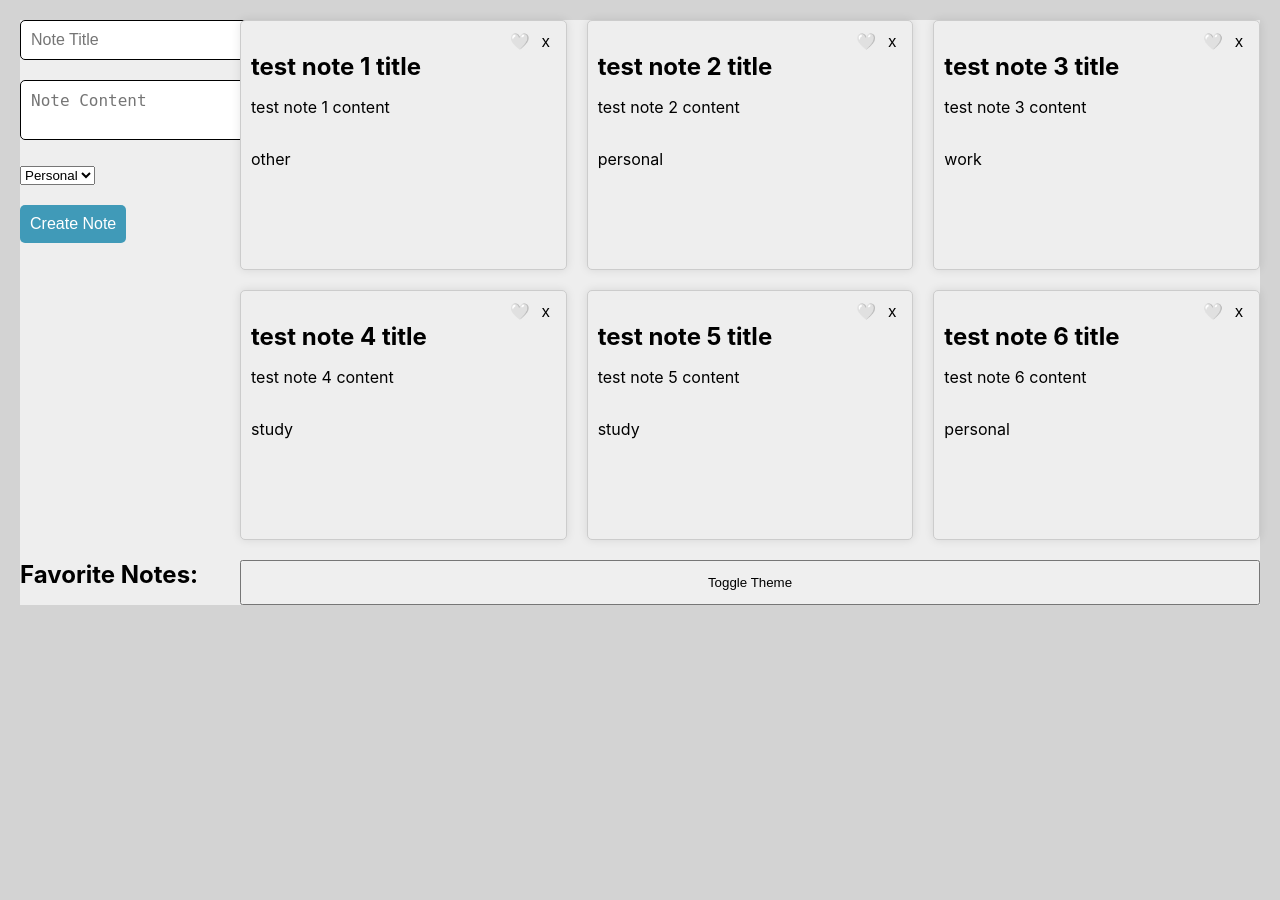
Scenario: displays all created notes
Type "Note 1" into the field with placeholder "Note Title" at (134, 40), box x1=20 y1=20 x2=249 y2=60
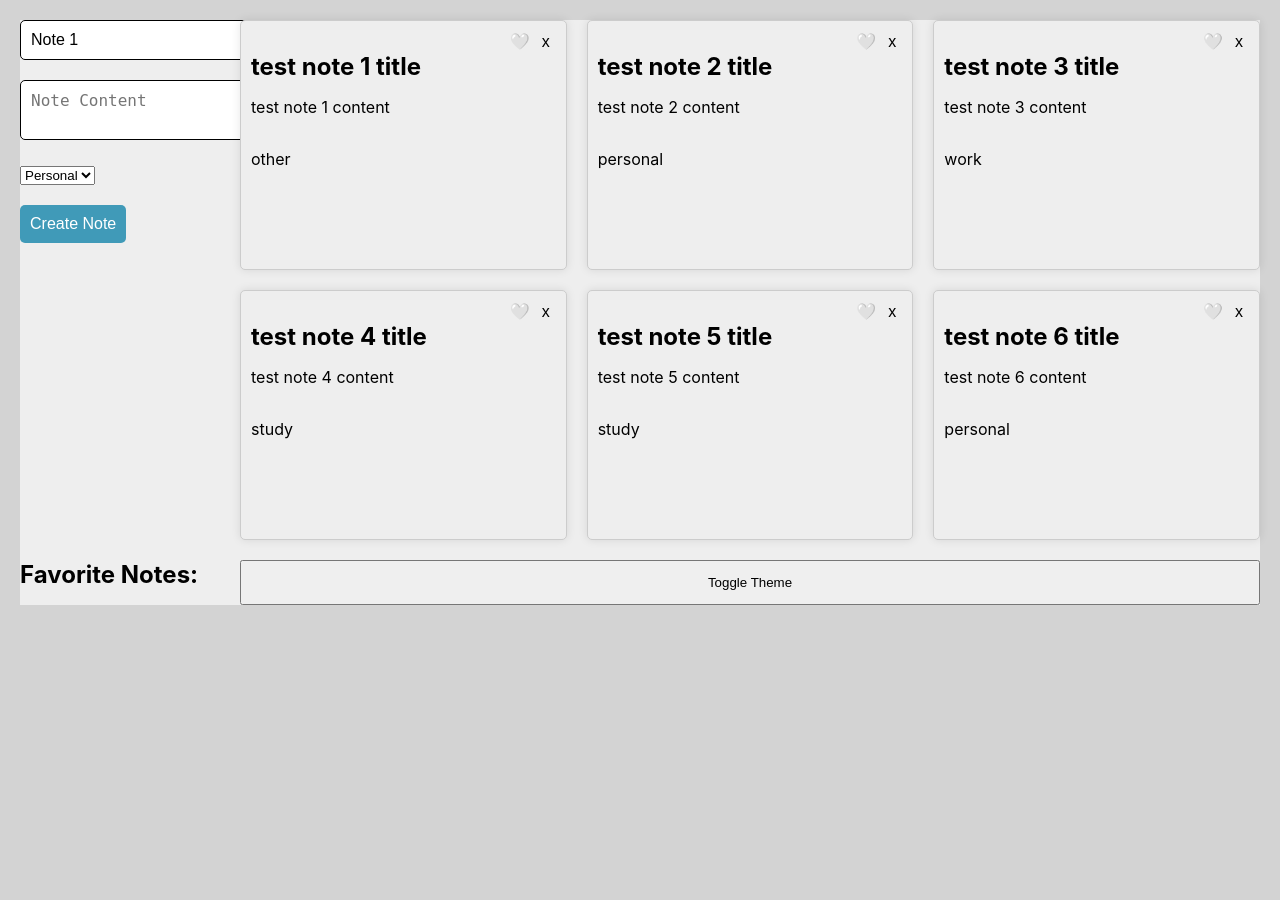
Type "Content 1" into the text box with placeholder "Note Content" at (138, 110), box x1=20 y1=80 x2=257 y2=140
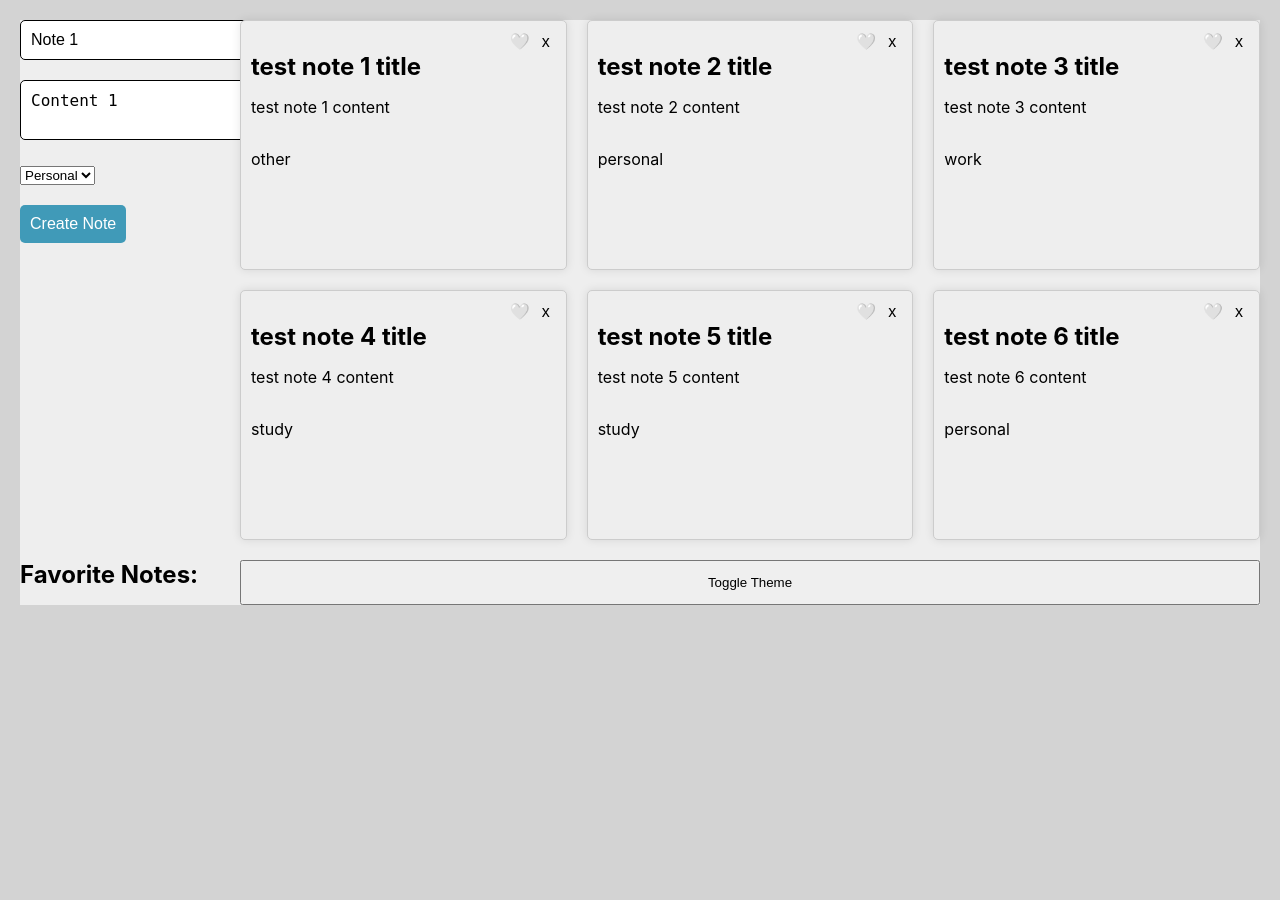
Click the button "Create Note" at (73, 224), box x1=20 y1=205 x2=126 y2=243
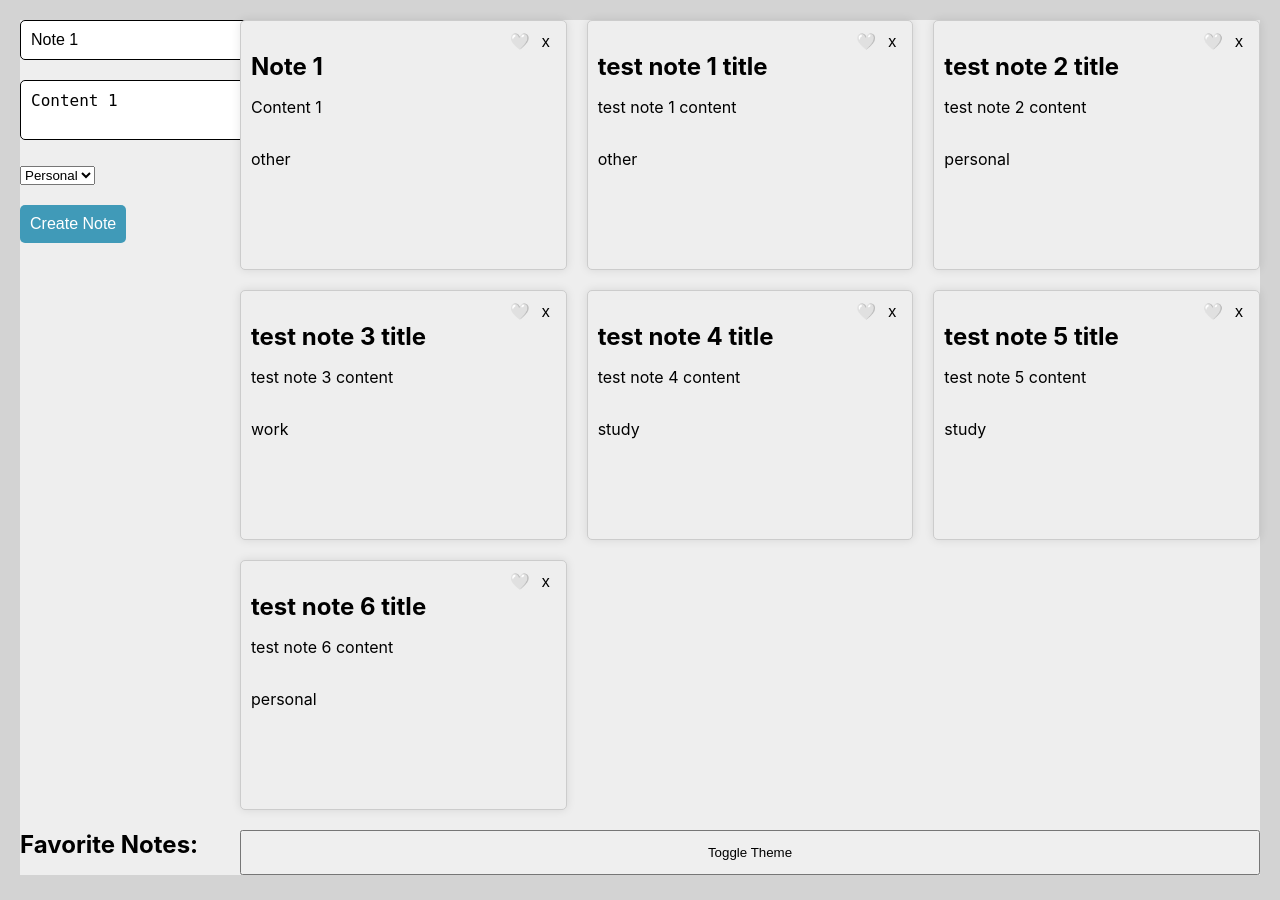
Replace the text in the field with placeholder "Note Title" with "Note 2" at (134, 40), box x1=20 y1=20 x2=249 y2=60
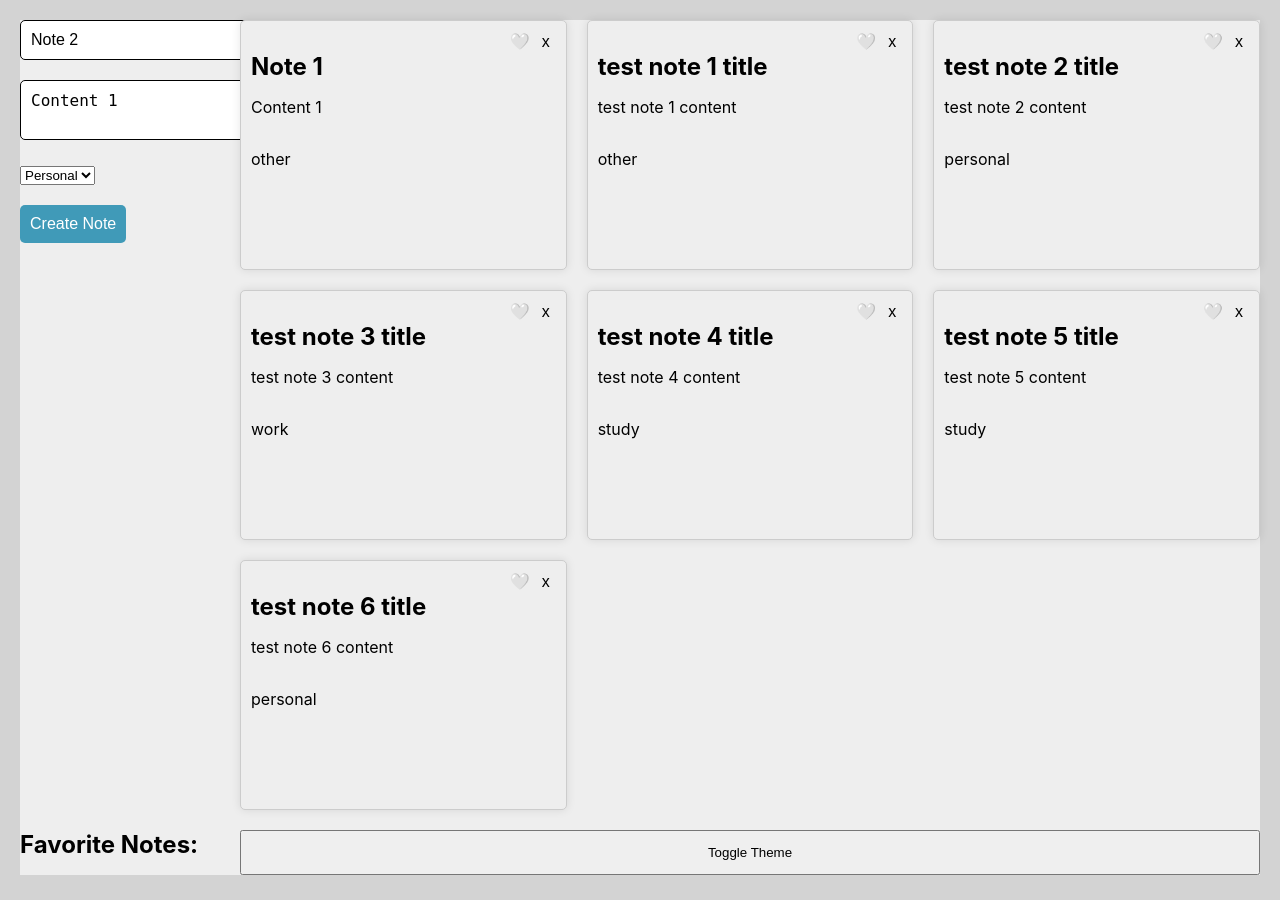
Replace the text in the text box with placeholder "Note Content" with "Content 2" at (138, 110), box x1=20 y1=80 x2=257 y2=140
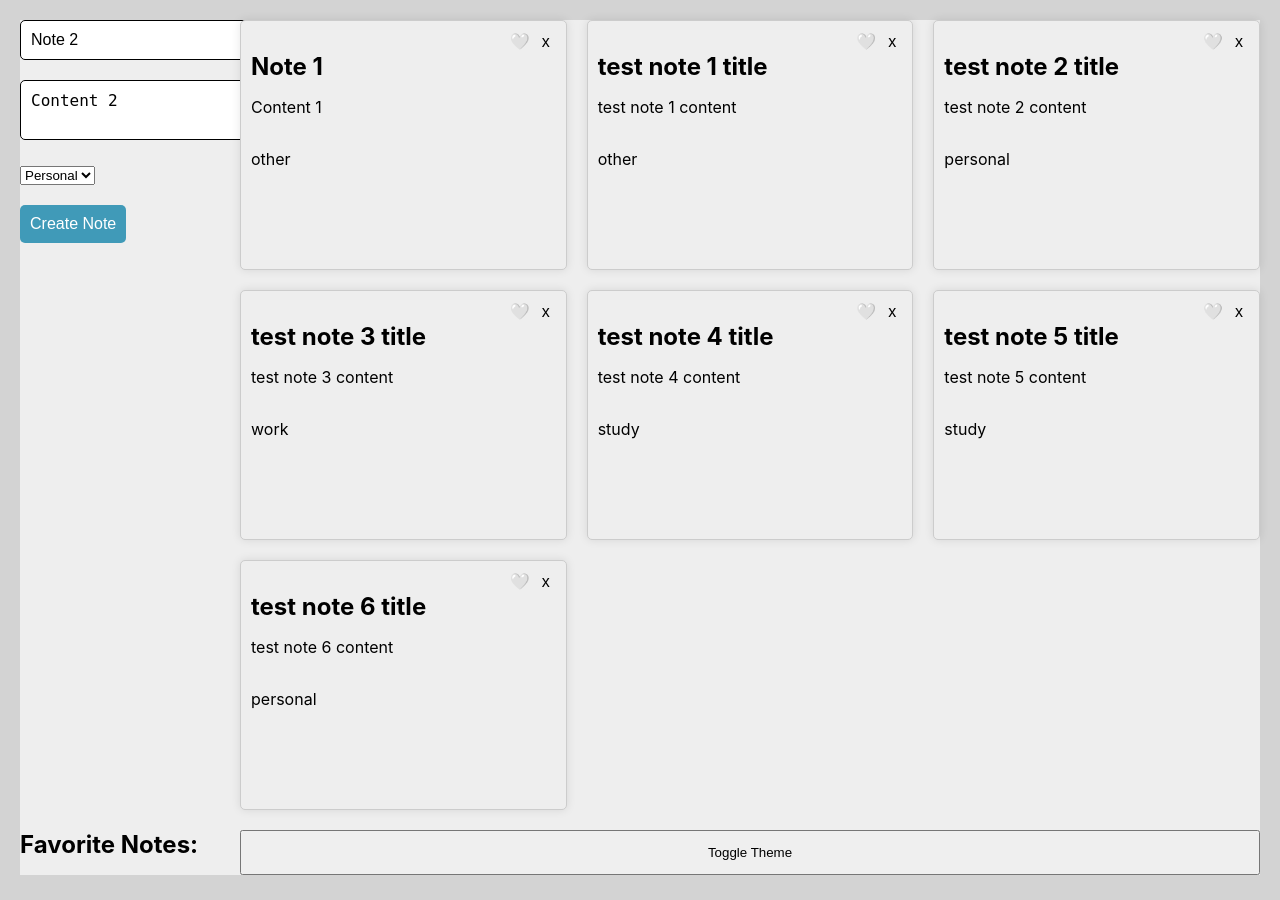
Click the button "Create Note" at (73, 224), box x1=20 y1=205 x2=126 y2=243
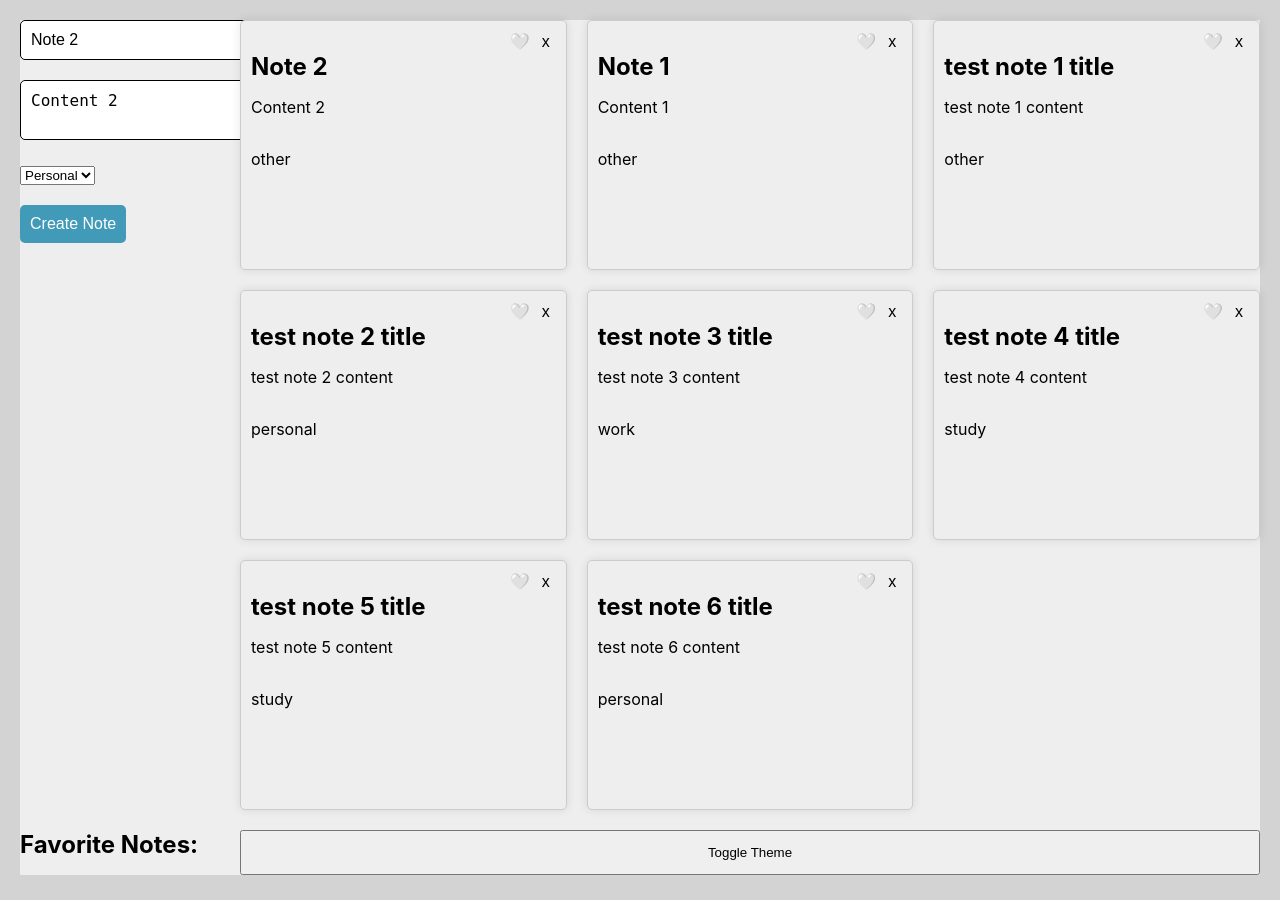
expect the heading "Note 1" is shown: met, box x1=598 y1=52 x2=670 y2=81
expect the text box "Content 1" is shown: met, box x1=598 y1=97 x2=668 y2=117
expect the heading "Note 2" is shown: met, box x1=251 y1=52 x2=328 y2=81
